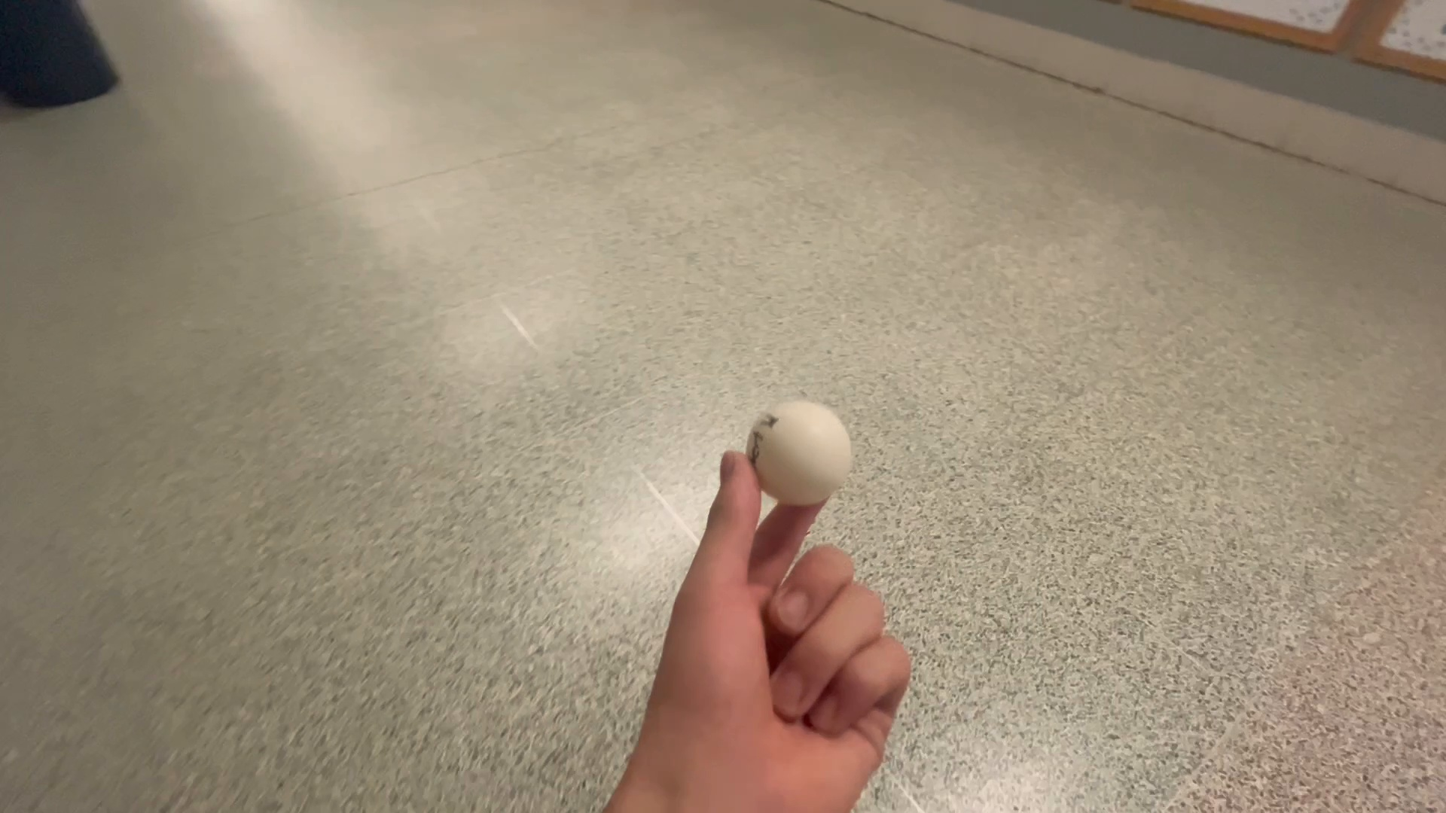Ball: (742, 394, 858, 503)
